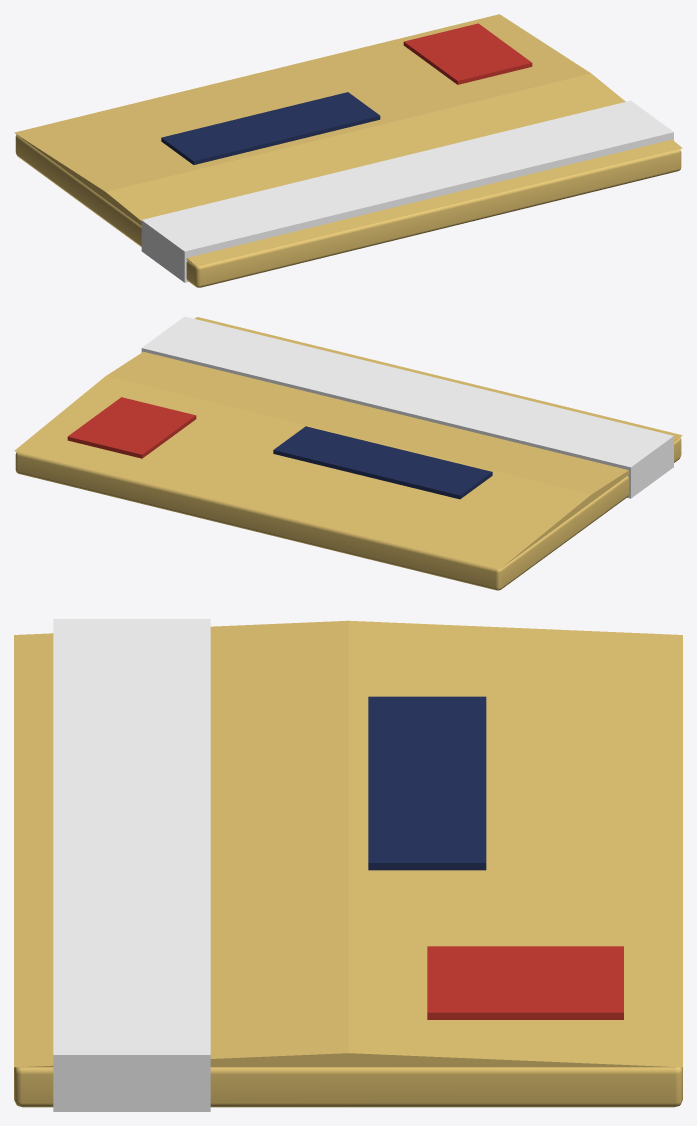
The model's file is MailEnvelope.fbx.
3 views of the same model, one above another, from view 1: azimuth 30°, elevation 25°; view 2: azimuth 150°, elevation 25°; view 3: azimuth 270°, elevation 25° (orthographic). The views are drawn at different scales.
Visible parts, largest first — view 1: MailEnvelopeBody, Stripe; view 2: MailEnvelopeBody, Stripe; view 3: MailEnvelopeBody, Stripe.
Boxes of the visible parts, x1=… form: MailEnvelopeBody: x1=14, y1=14, x2=682, y2=287; Stripe: x1=141, y1=100, x2=673, y2=282; MailEnvelopeBody: x1=14, y1=317, x2=682, y2=590; Stripe: x1=141, y1=316, x2=673, y2=498; MailEnvelopeBody: x1=14, y1=620, x2=682, y2=1107; Stripe: x1=53, y1=619, x2=210, y2=1111.
Size of the model in its own units: 0.262 by 0.018 by 0.17.
